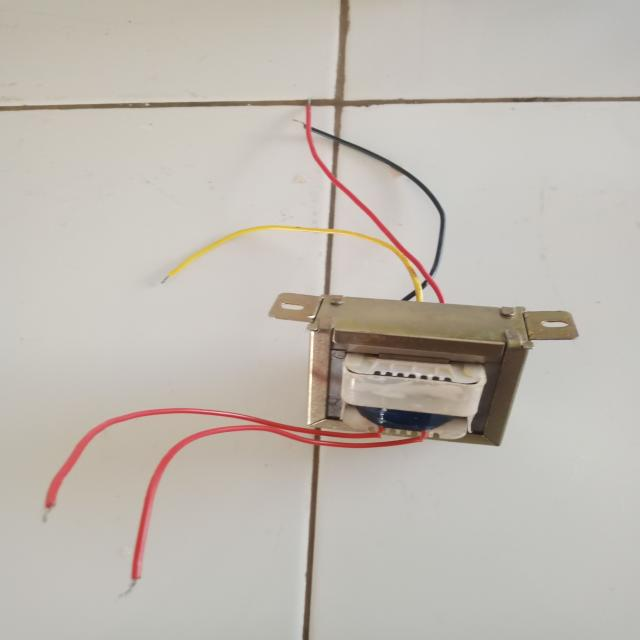Stepdown Transformer: (252, 231, 564, 467)
